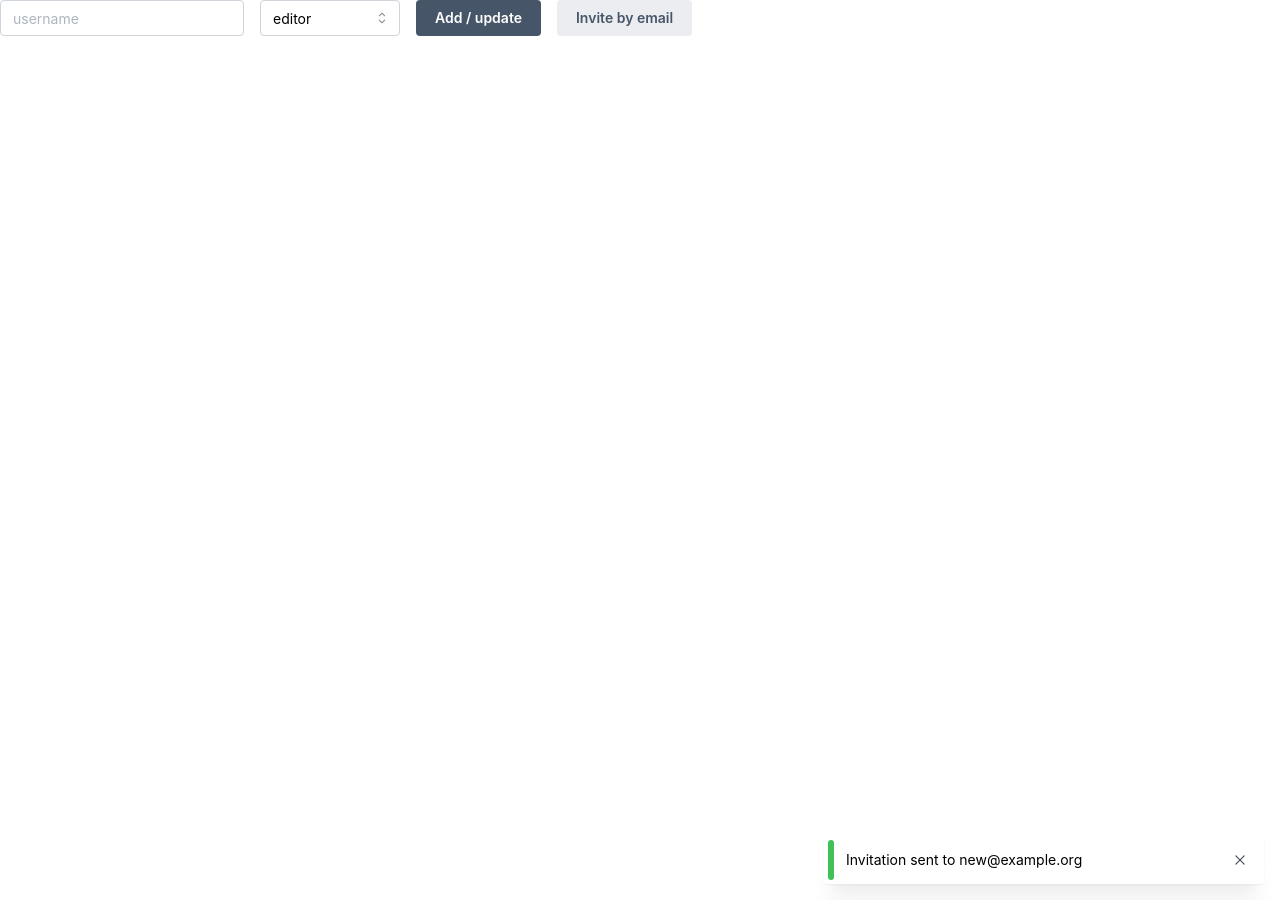
invite modal rejects a malformed email
The width and height of the screenshot is (1280, 900).
Click the button "Invite by email": (625, 18) [557,0,692,36]
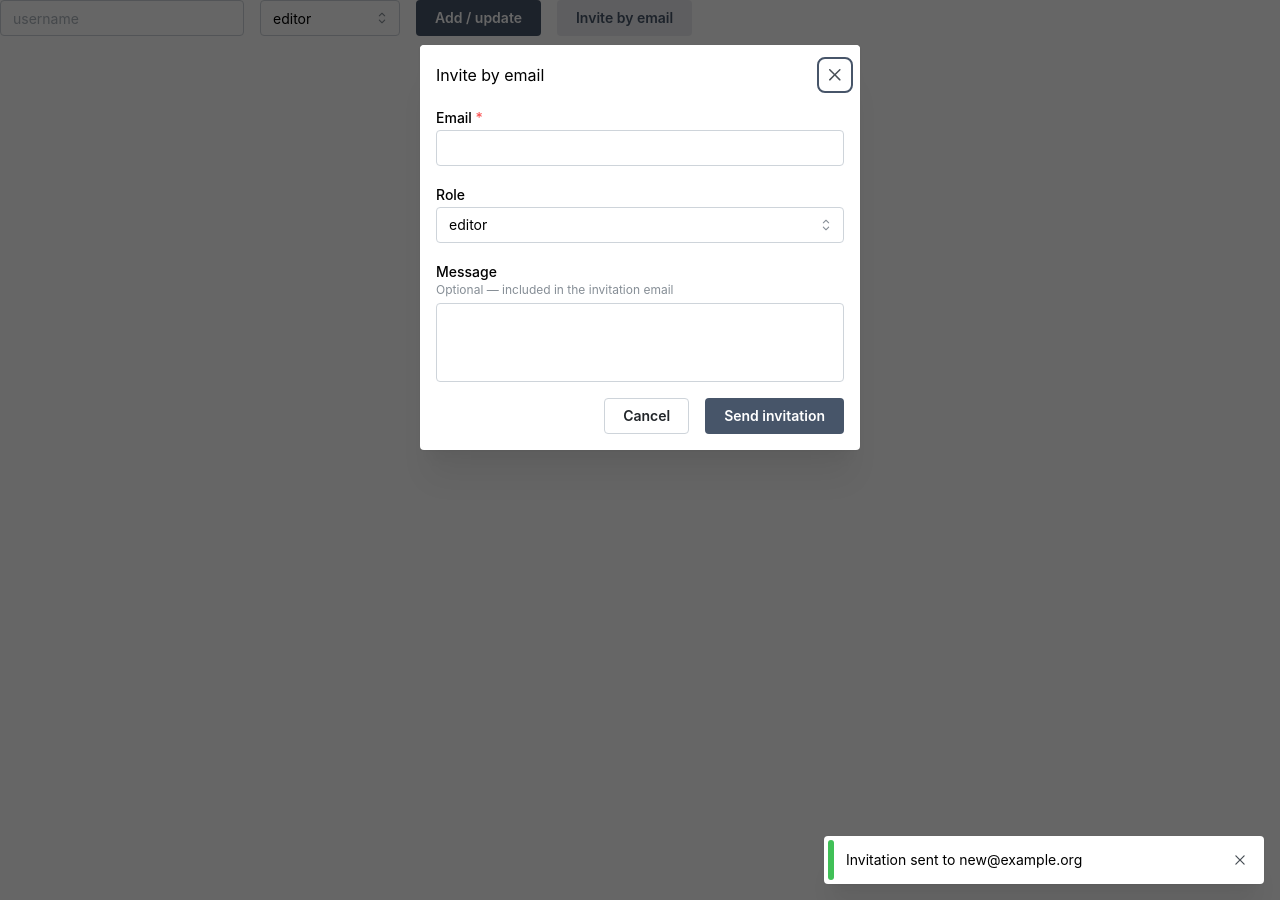
In the field labelled "Email *": (640, 148) [436,130,844,166], type "nope"
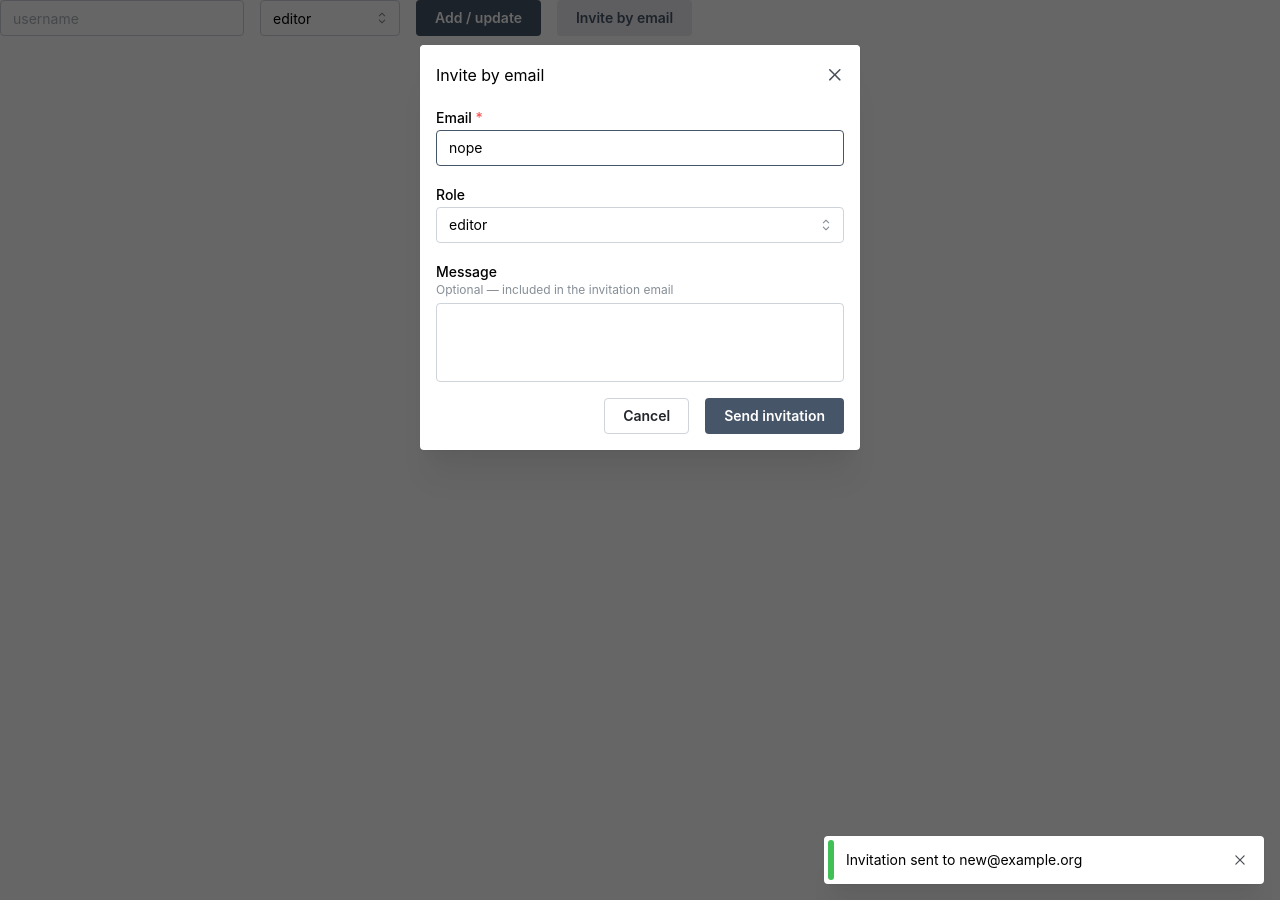
Click the button "Send invitation": (775, 416) [705,398,844,434]
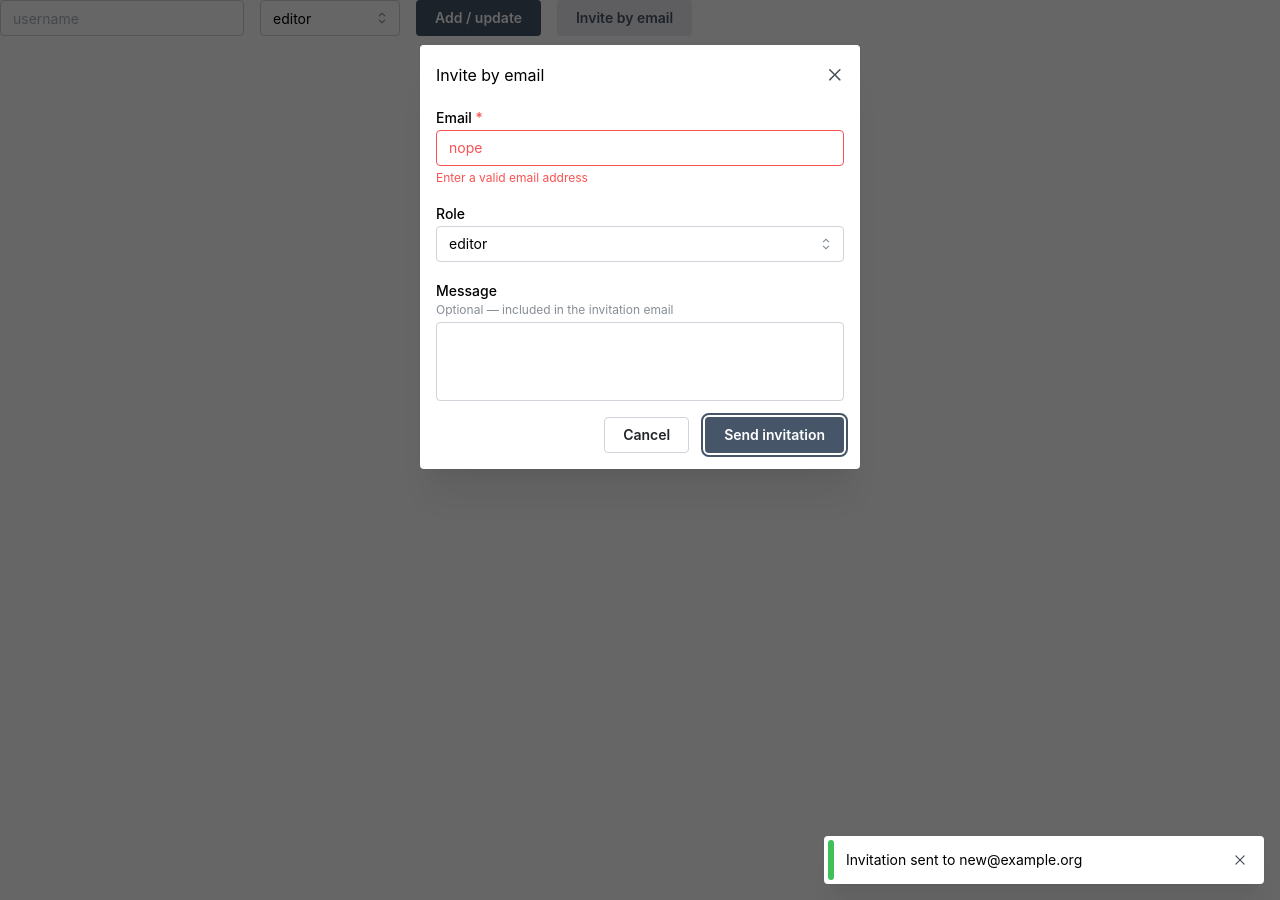
Check: the text "Enter a valid email address" is shown, box [436,170,588,185]
